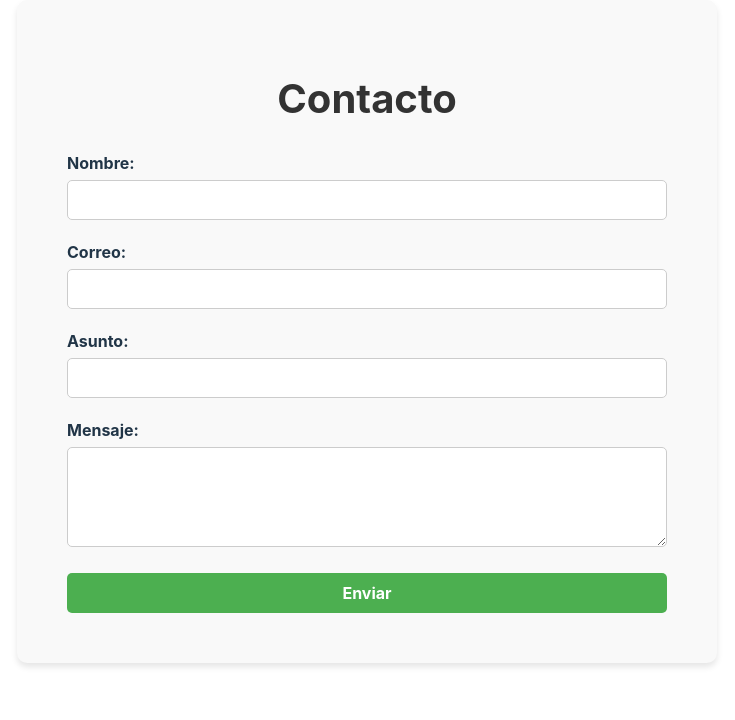
Valida campos obligatorios en el formulario de contacto
Click the button "Enviar" at (367, 593), box [67, 573, 667, 613]
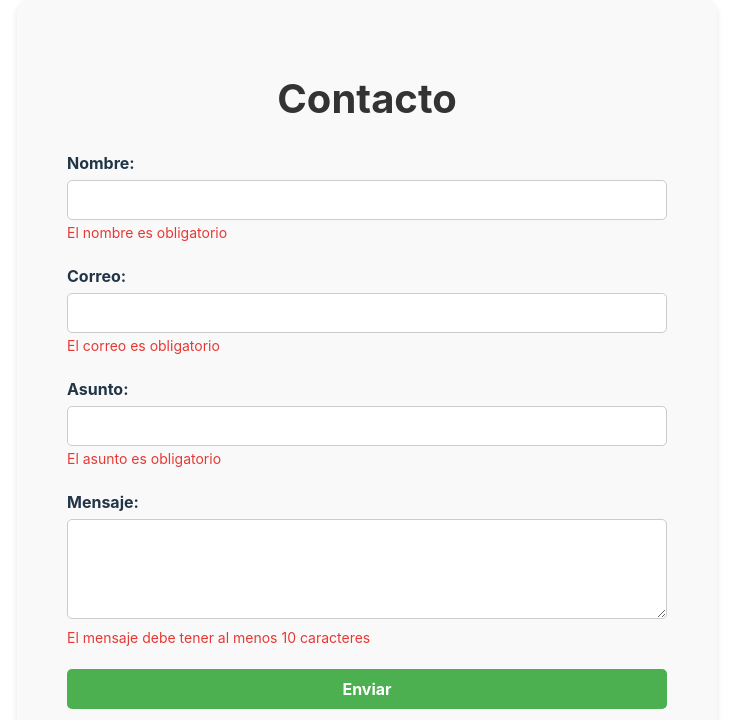
Check: the text "El nombre es obligatorio" is shown, box [67, 224, 227, 241]
Check: the text "El correo es obligatorio" is shown, box [67, 337, 220, 354]
